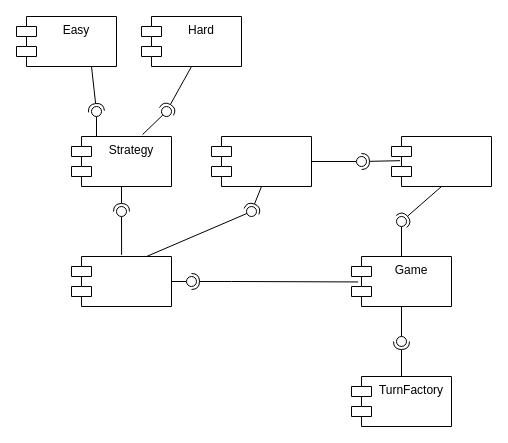
Some shapes in this 508 by 443 pixel diagram are drawn without their labels. Here are the shapes that lost their labels. From the top down, the centre of each, then its label:
the point at 261,161: Ships
the point at 441,161: Board
the point at 121,281: Player
